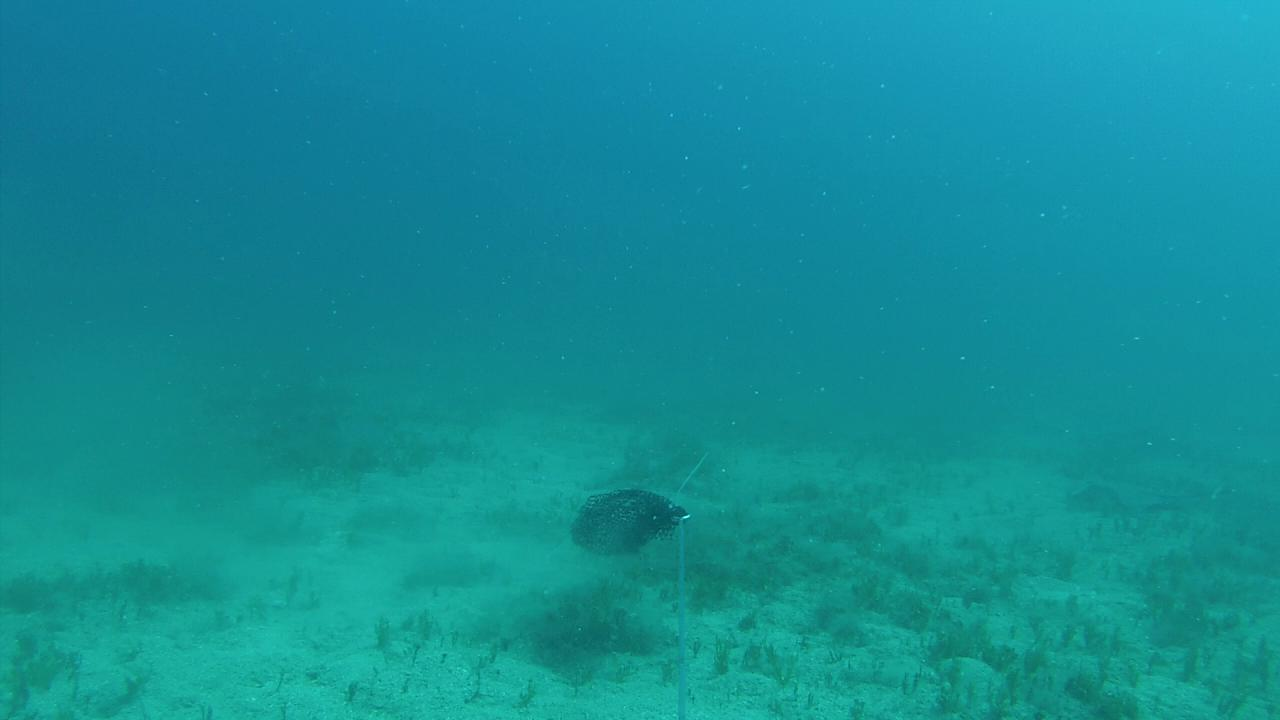dasyatis: (1065, 476, 1231, 509)
